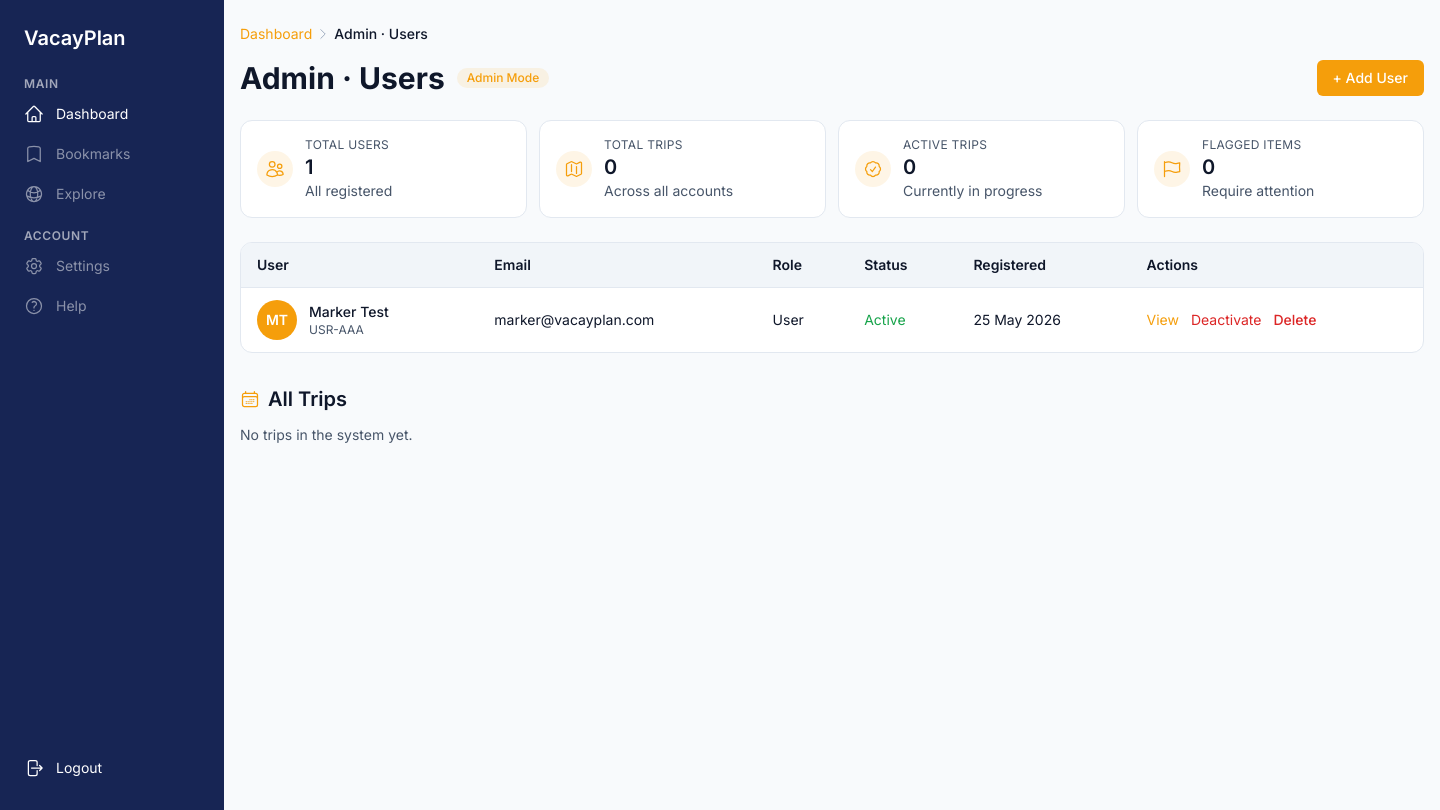
Test case: AdminUserList › status toggle › surfaces the server error message inside the dialog on PATCH failure
Click the button "Deactivate".
click(1226, 320)  # box top-left (1191, 310), bottom-right (1261, 330)
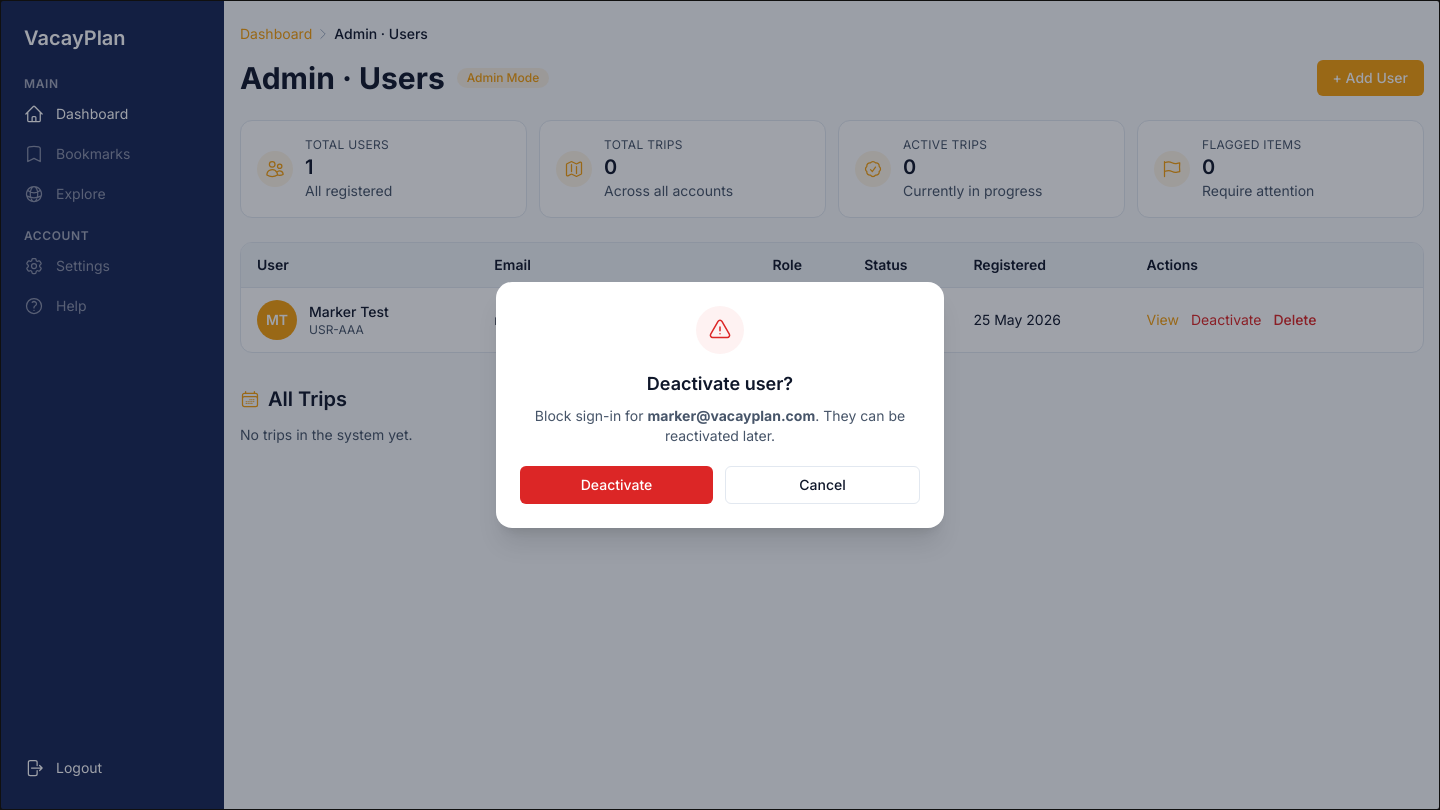
Click the button "Deactivate".
click(616, 485)  # box top-left (520, 466), bottom-right (713, 504)
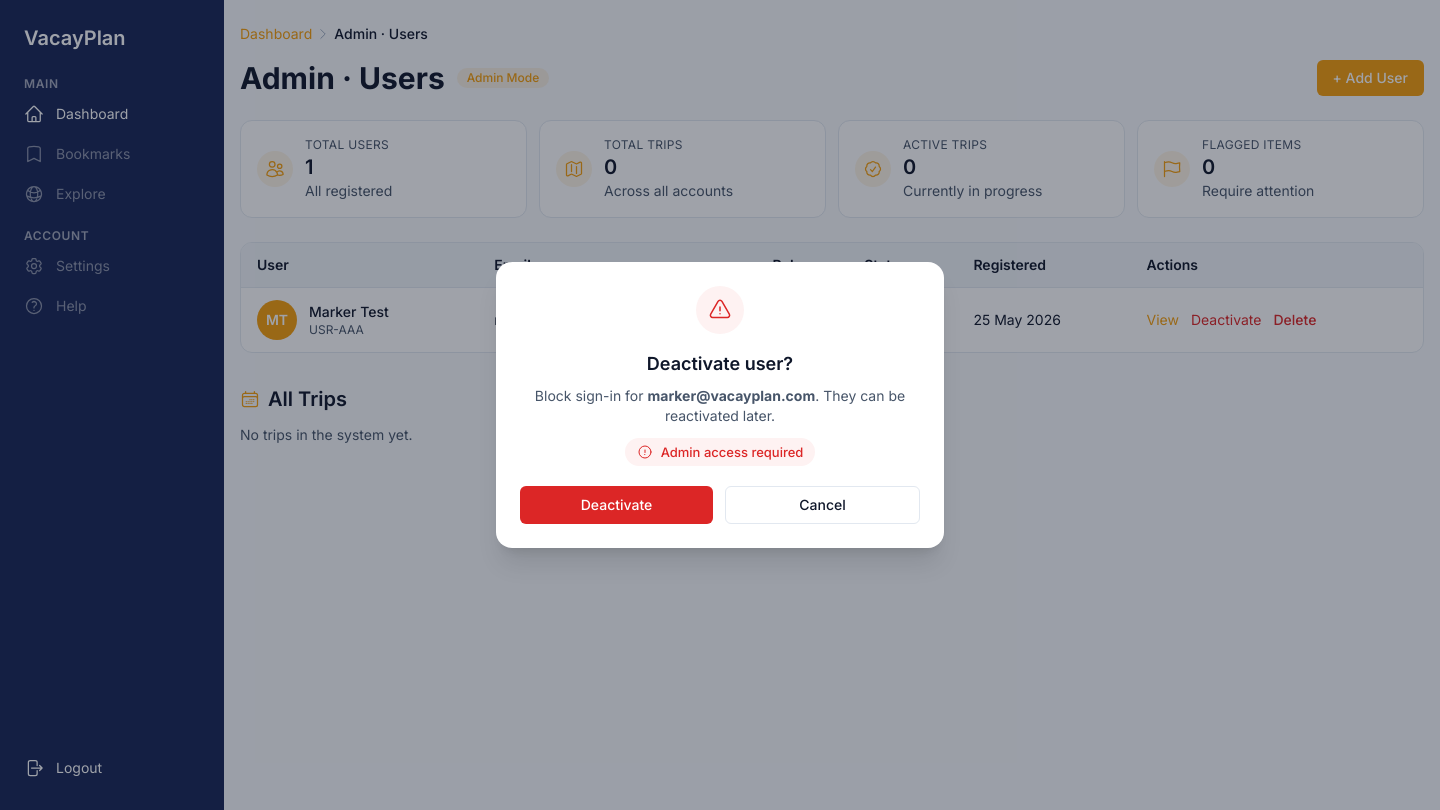
Now the message reads "Admin access required", box top-left (661, 444), bottom-right (803, 460)
